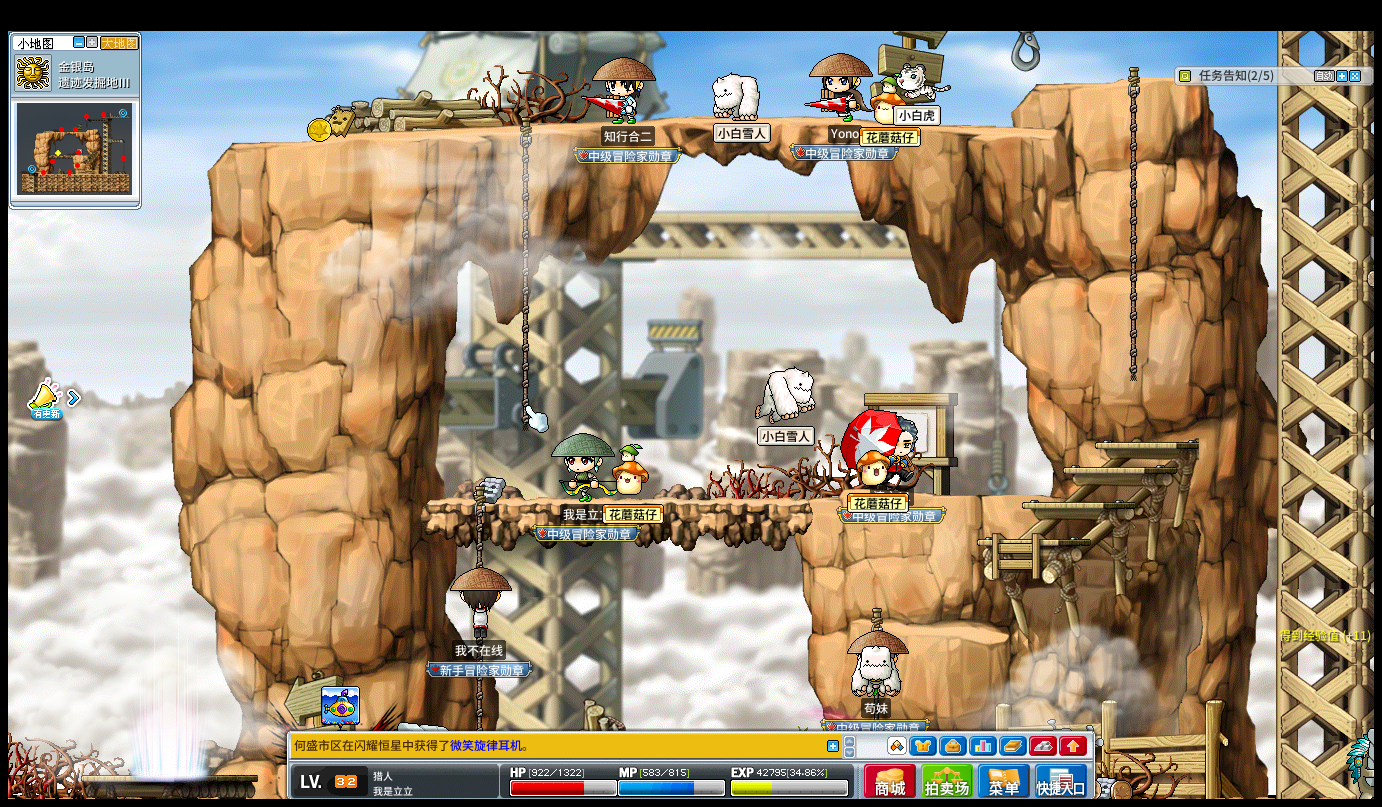floor: (219, 113, 1068, 146), (424, 495, 802, 507), (1033, 73, 1185, 89), (900, 622, 1010, 643), (927, 497, 1122, 507), (974, 537, 1090, 550), (975, 533, 1087, 546), (927, 491, 1059, 501), (1022, 498, 1133, 508), (1096, 440, 1199, 450), (1059, 464, 1173, 473)
monster: (1346, 729, 1381, 796)
rope: (1124, 57, 1141, 389), (518, 116, 531, 427), (471, 484, 486, 567)
